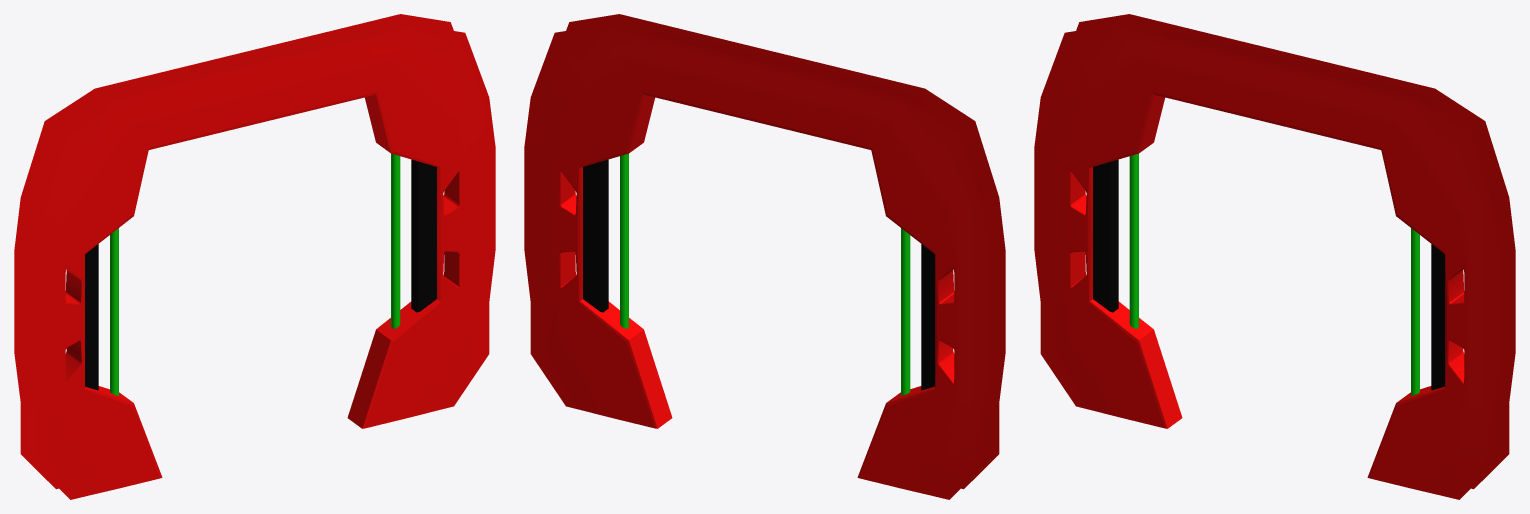
Rendered from Column.FBX.
3 views of the same model, side by side, from view 1: azimuth 30°, elevation 25°; view 2: azimuth 150°, elevation 25°; view 3: azimuth 330°, elevation 25° (orthographic).
Parts seen in each view (by area): view 1: Colum010; view 2: Colum010; view 3: Colum010.
Boxes of the visible parts, left/top/right/bottom form: Colum010: left=14, top=14, right=495, bottom=499; Colum010: left=524, top=14, right=1005, bottom=499; Colum010: left=1034, top=14, right=1515, bottom=499.
Bounding box in the file's own units: 160 × 128 × 9.07.
